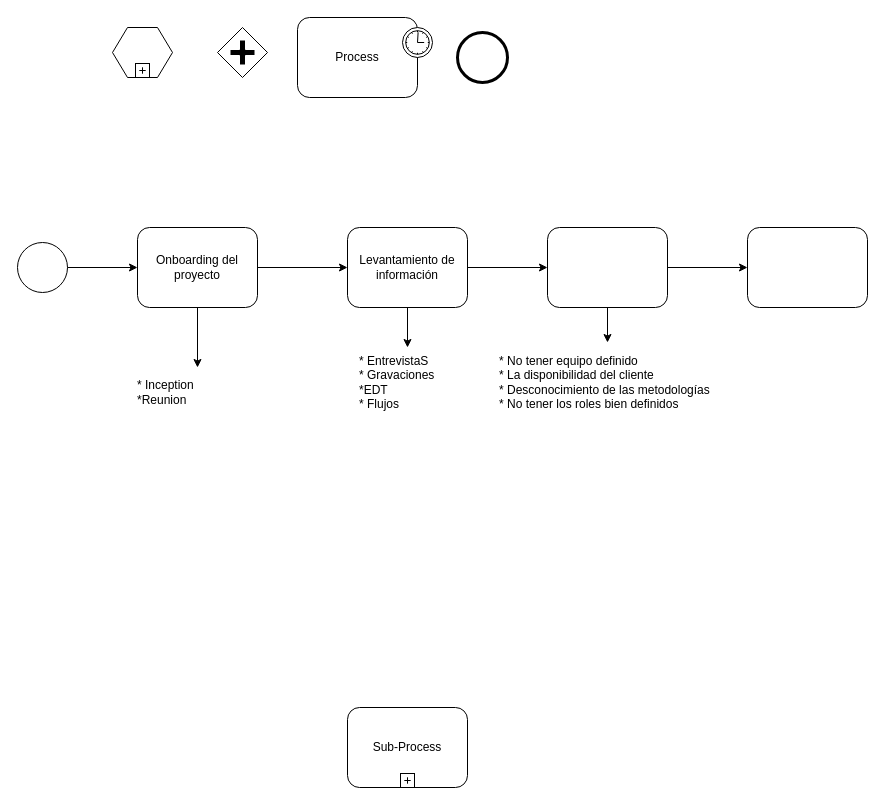
Some shapes in this 885 by 805 pixel diagram are drawn without their labels. The box of each missing label's shape, as (x1, y1, x2, y2) in pixels:
Impedimentos principales: (546, 226, 668, 308)
Iniciar: (16, 242, 68, 292)
